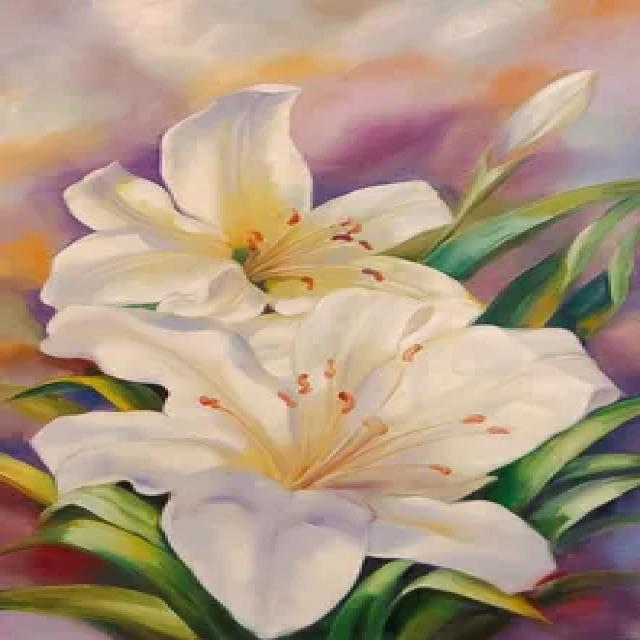lily: (26, 283, 608, 640)
